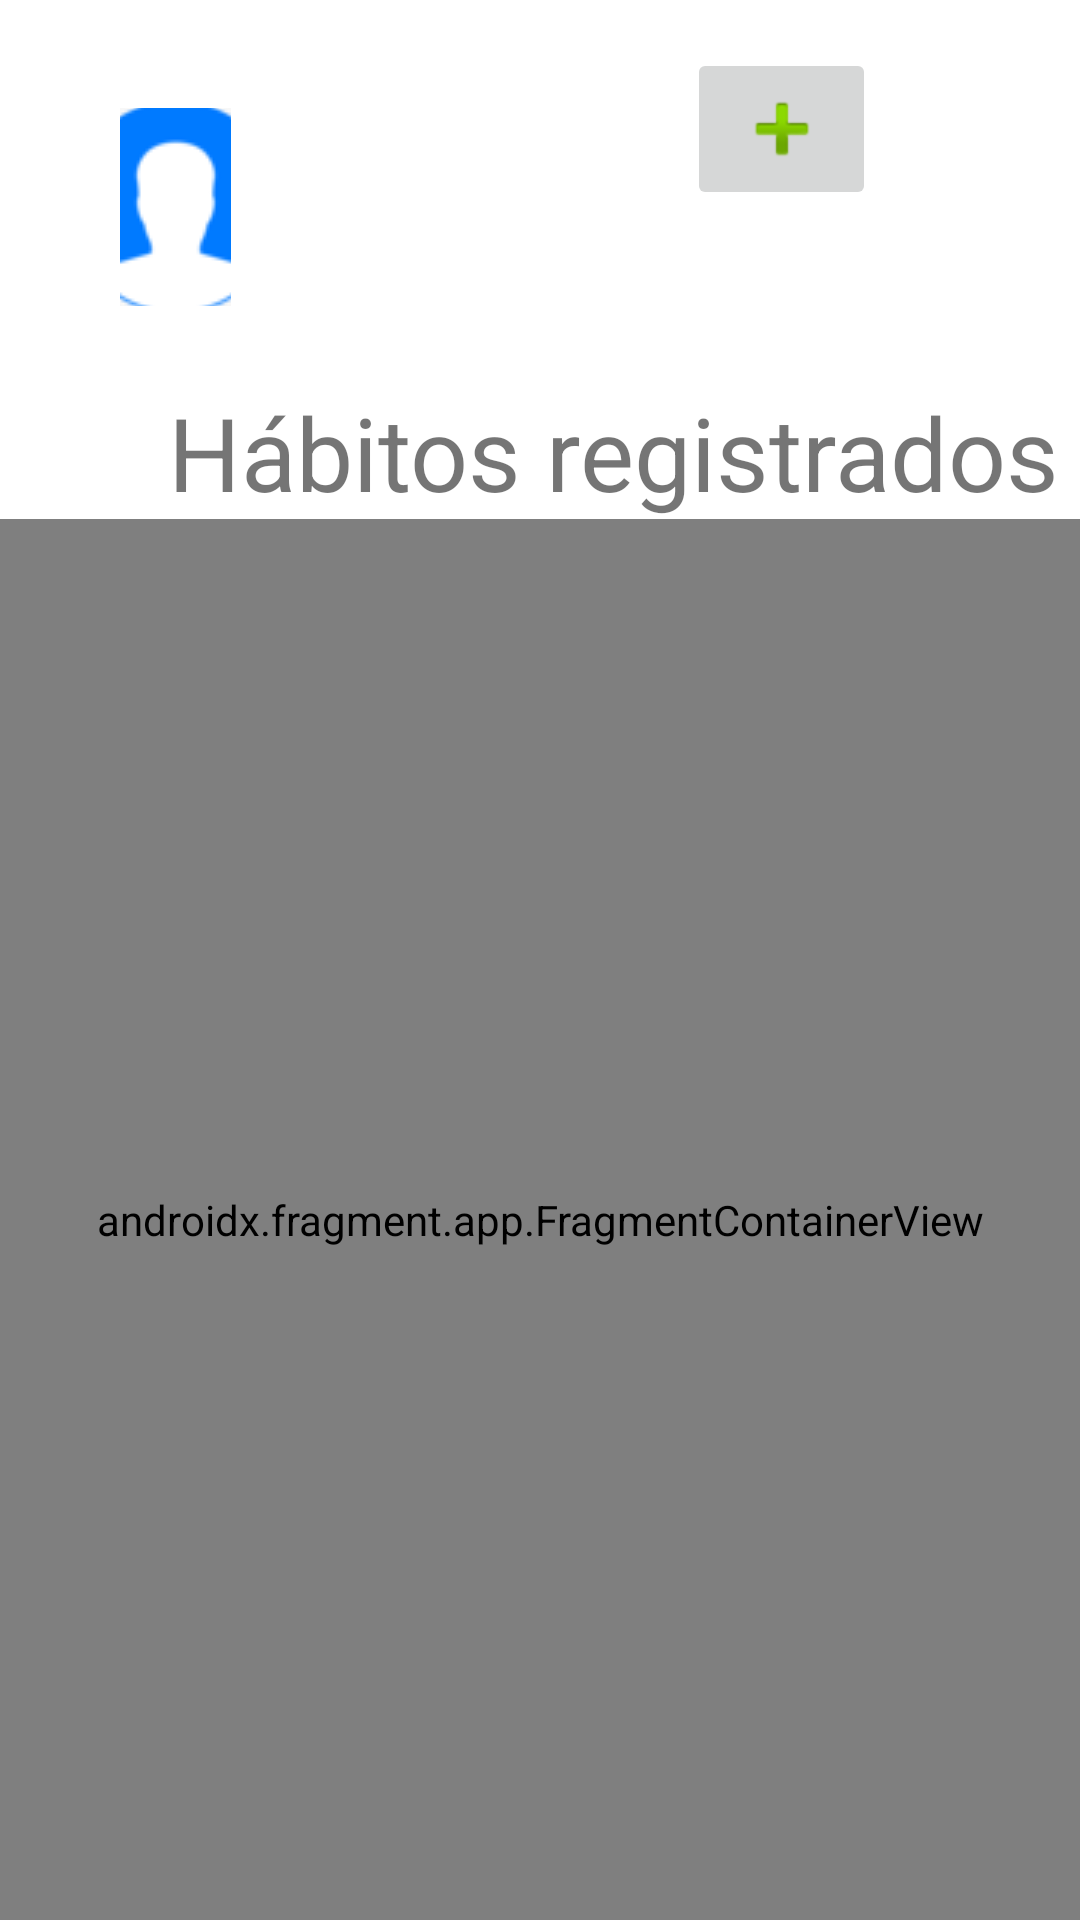

Where to tap for icons on this 1080px×1920px app screen, as (x,y):
add: (781,129)
profile: (175,207)
